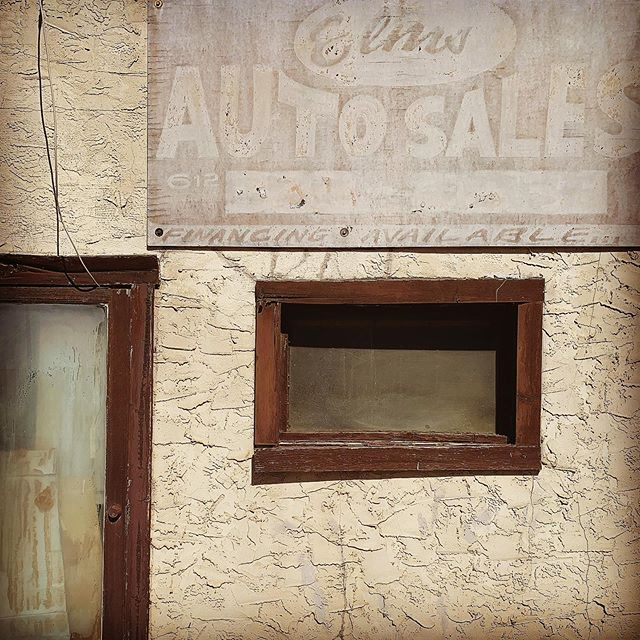sign: (146, 1, 640, 242)
